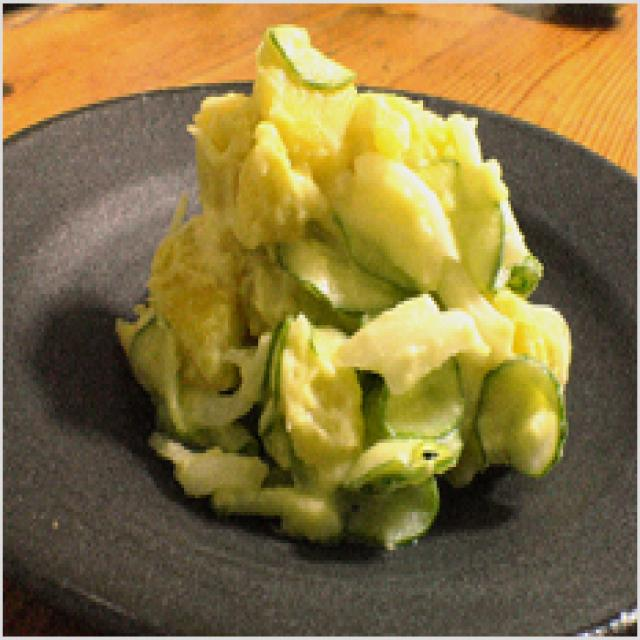蔬菜料理: (0, 21, 640, 636)
